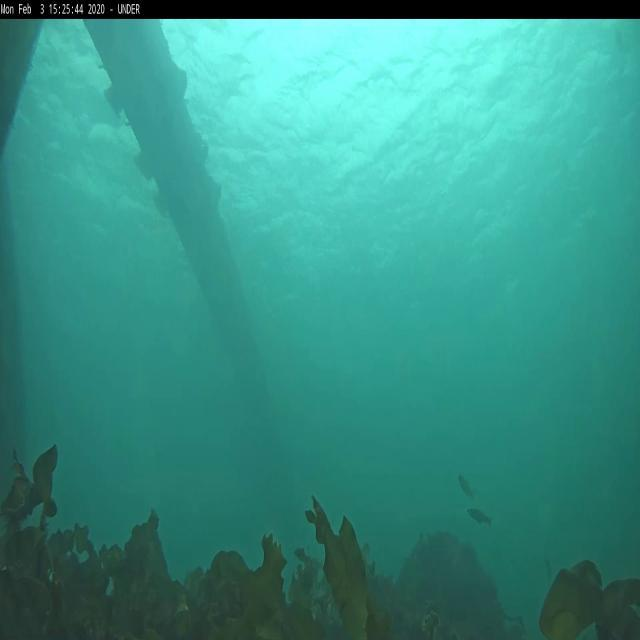fish: (456, 474, 476, 504), (466, 507, 494, 526)
